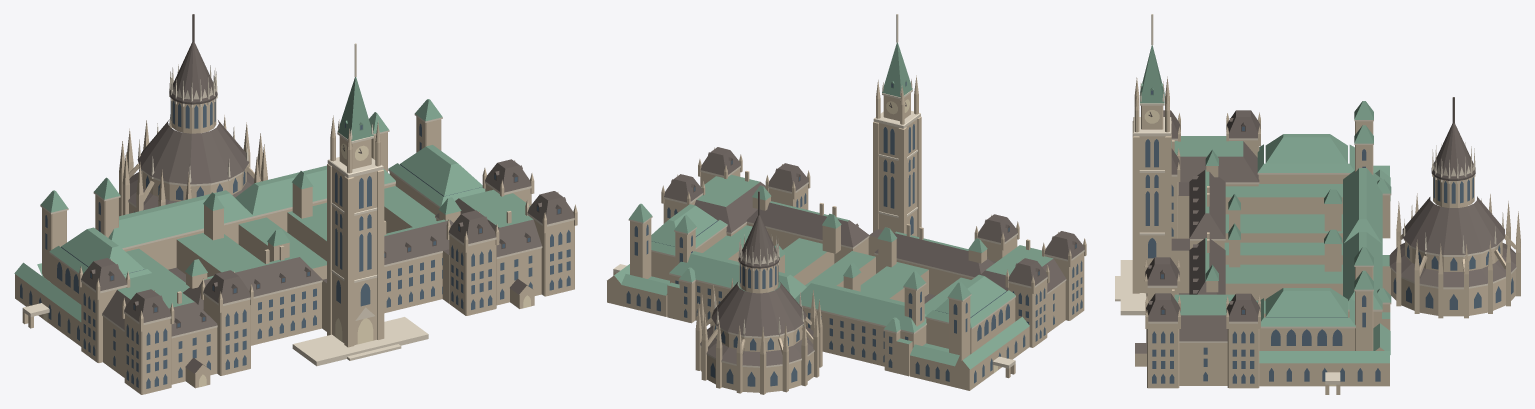
The model's file is ott-parliament-centre-block.glb.
3 renders of one model, left to right at view 1: azimuth 30°, elevation 25°; view 2: azimuth 150°, elevation 25°; view 3: azimuth 270°, elevation 25°, orthographic. The views are drawn at different scales.
Visible parts, largest first — view 1: Centre Block, Parliament of Canada; view 2: Centre Block, Parliament of Canada; view 3: Centre Block, Parliament of Canada.
Part boxes in pixels (left/top/right/bottom): Centre Block, Parliament of Canada: left=14, top=14, right=577, bottom=394; Centre Block, Parliament of Canada: left=607, top=14, right=1086, bottom=394; Centre Block, Parliament of Canada: left=1115, top=14, right=1520, bottom=394.
Bounding box in the file's own units: 155 × 94.5 × 126.
